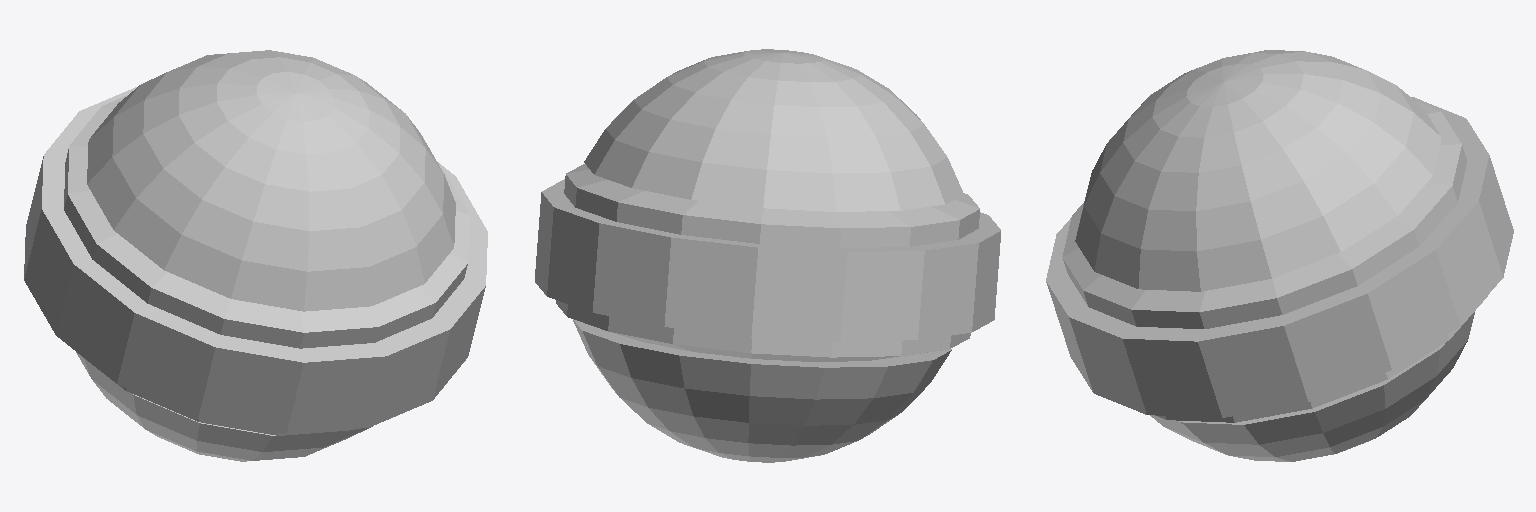
File: BlueRoboBottom.obj
3 renders of one model, left to right at view 1: azimuth 30°, elevation 25°; view 2: azimuth 150°, elevation 25°; view 3: azimuth 270°, elevation 25°, orthographic.
Visible parts, largest first — view 1: polySurface19; view 2: polySurface19; view 3: polySurface19.
Boxes of the visible parts, <box> form: polySurface19: <box>24,50,487,461</box>; polySurface19: <box>535,49,1000,462</box>; polySurface19: <box>1046,50,1513,461</box>.
Bounding box in the file's own units: 1.93 × 1.7 × 1.94.